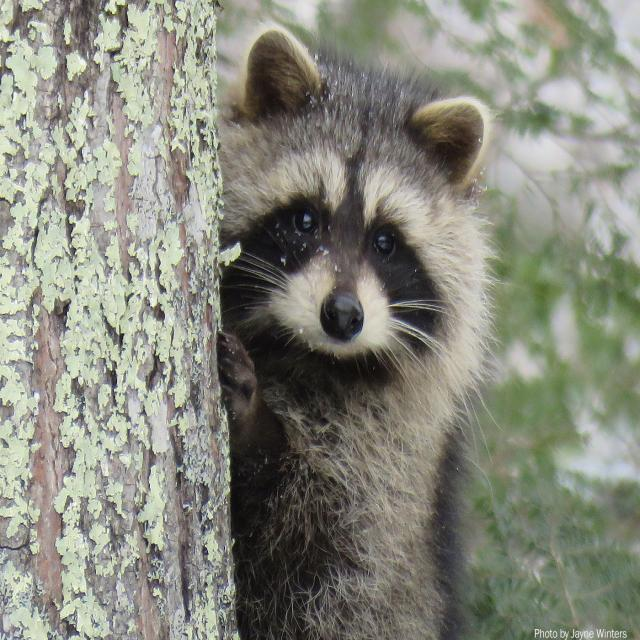Raccoon: (225, 35, 486, 640)
